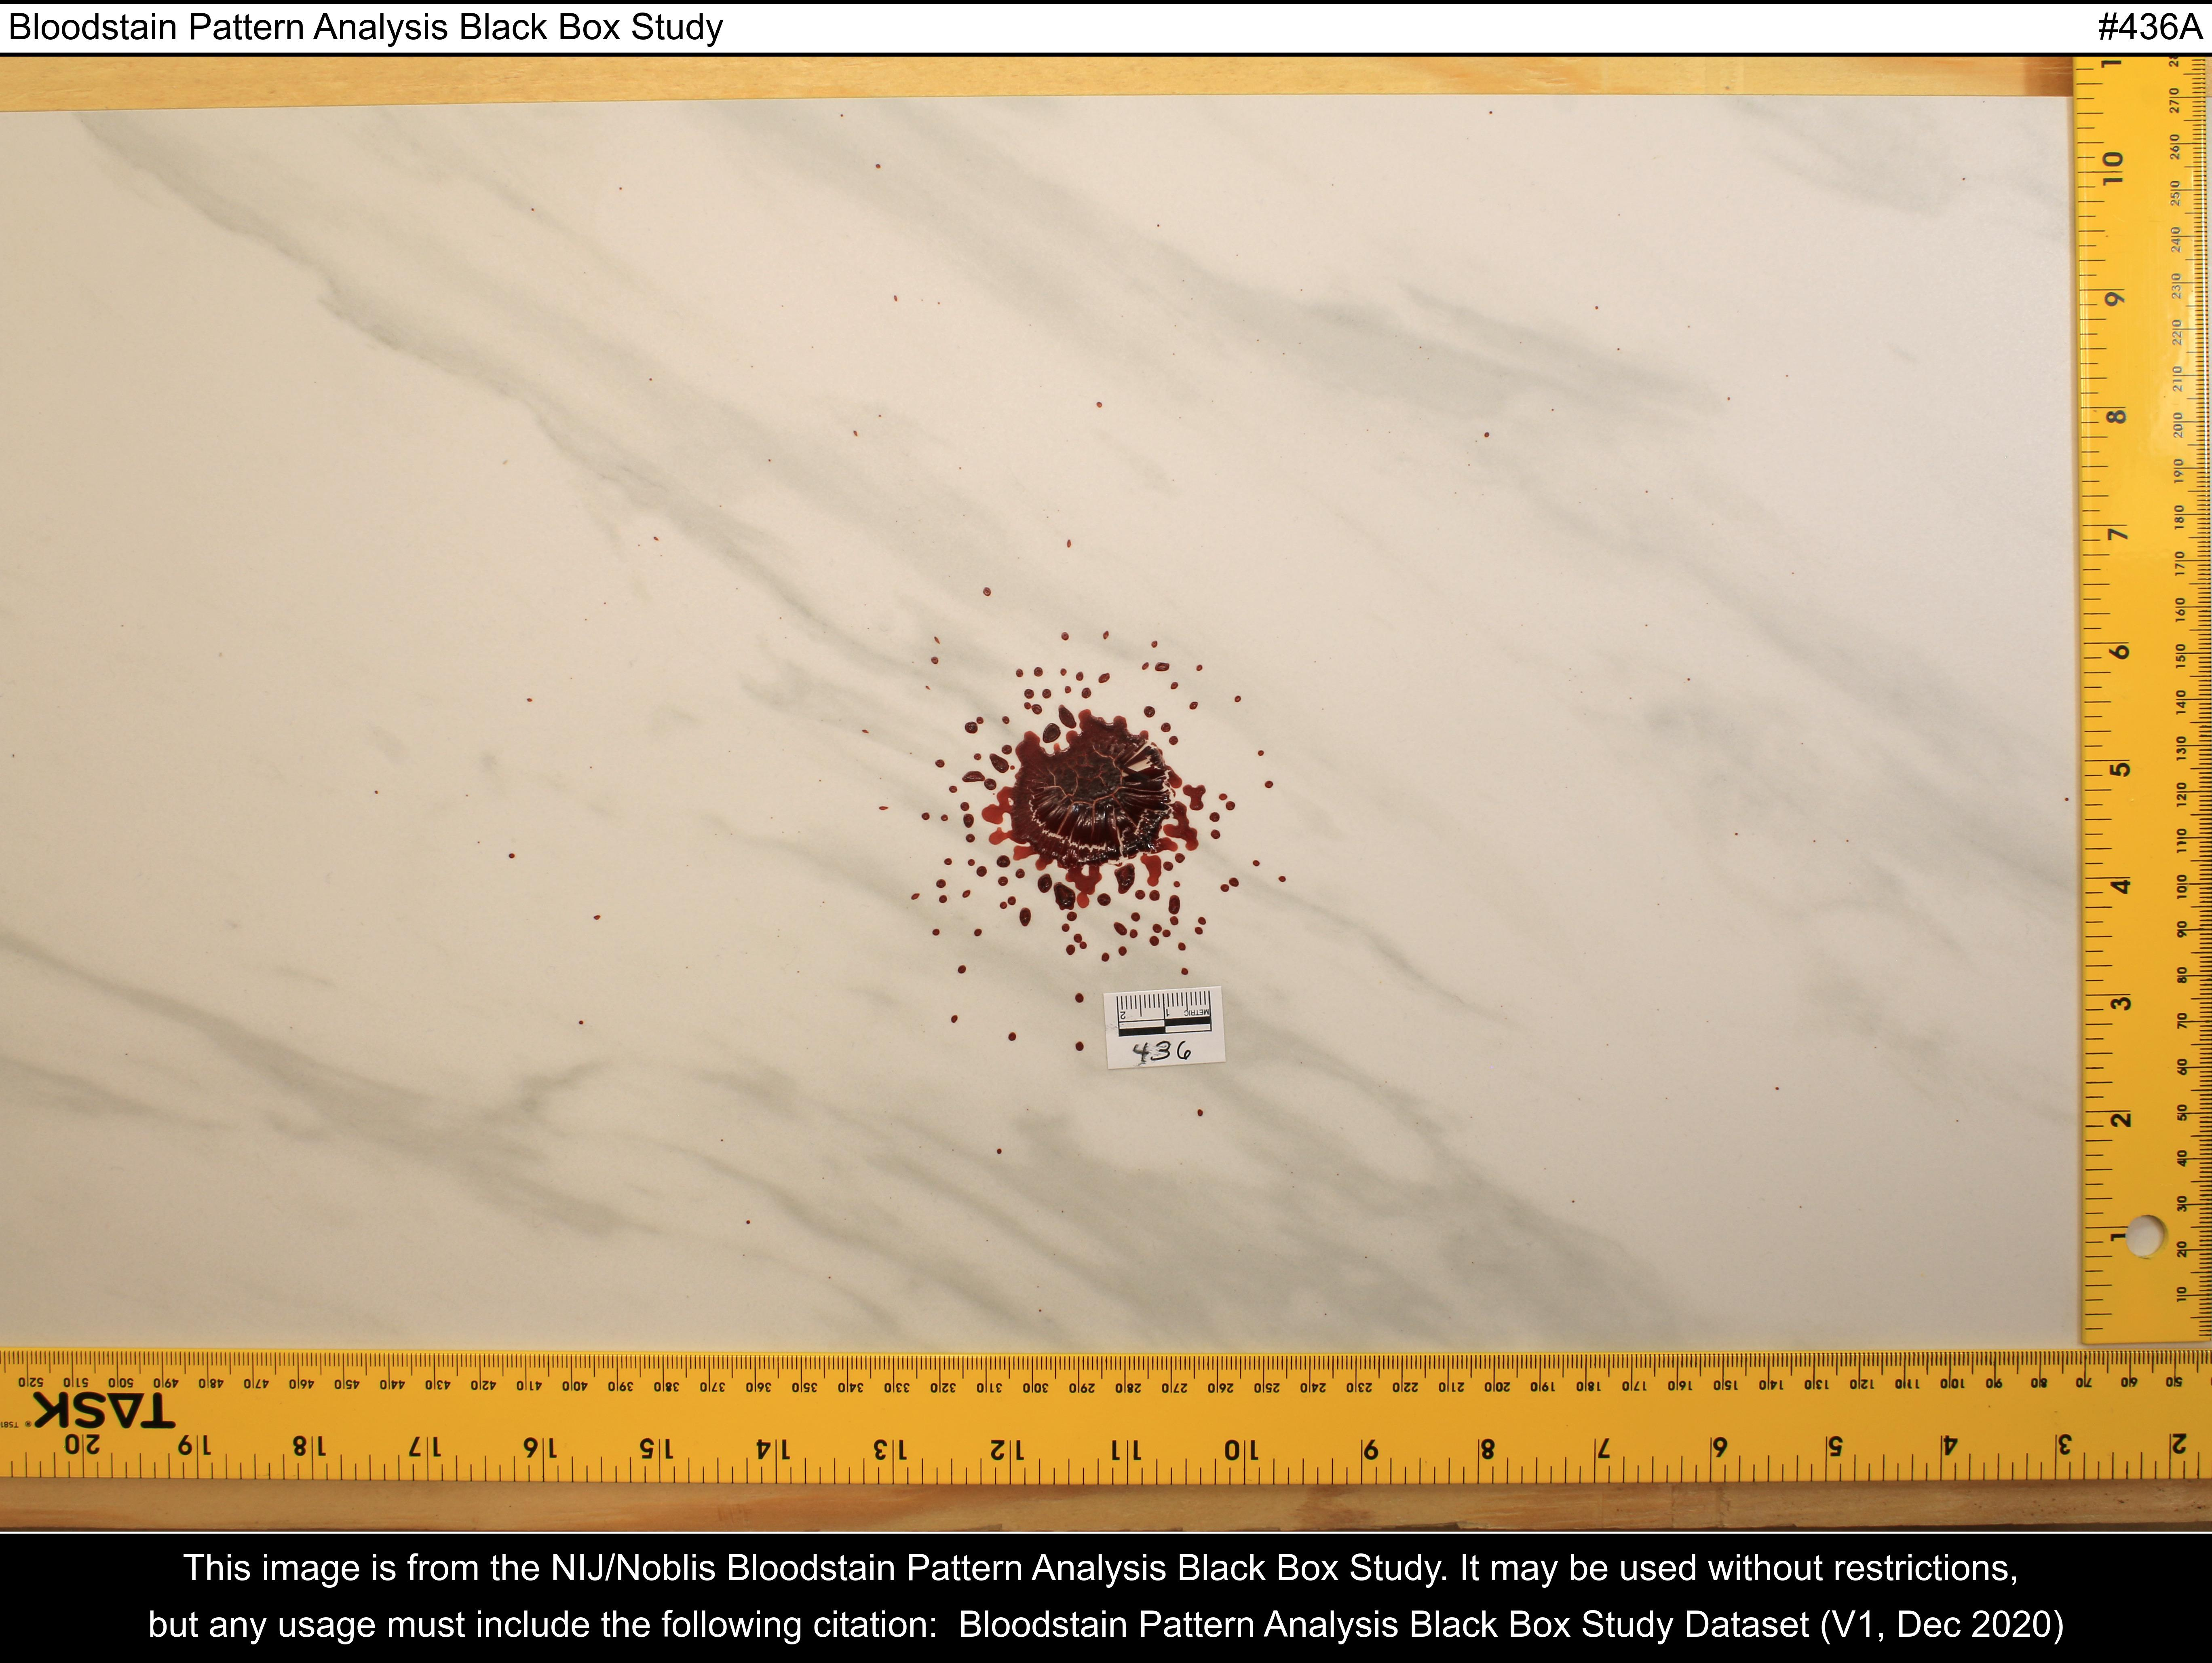Passive: (812, 505, 1364, 985)
